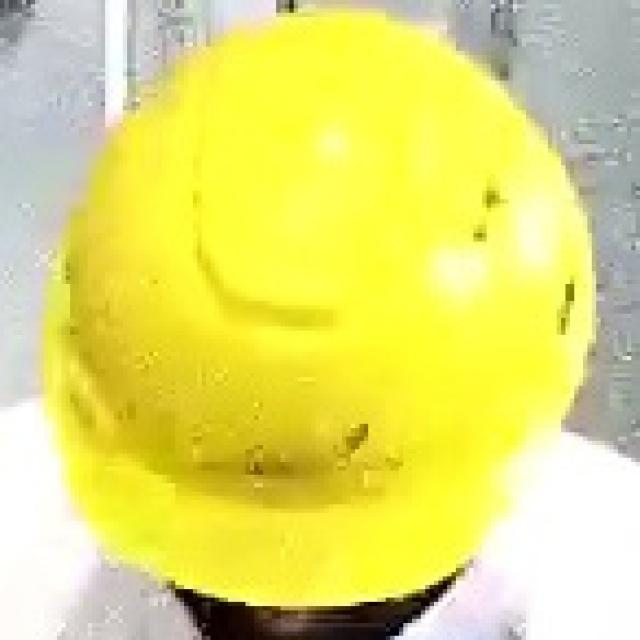yellow helmet: (44, 9, 614, 624)
